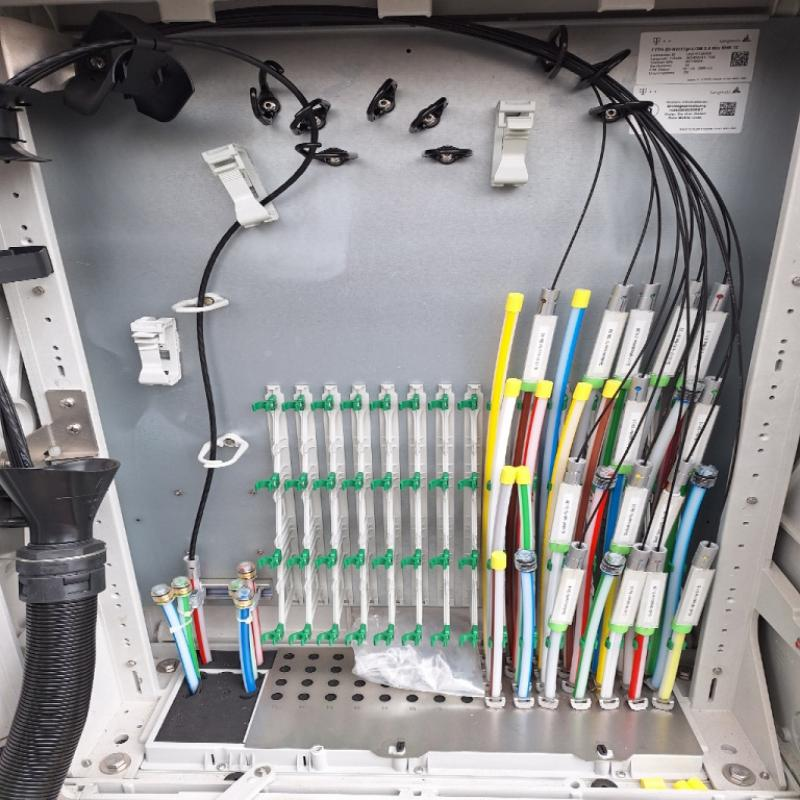NT-Gehause: (4, 4, 798, 796)
